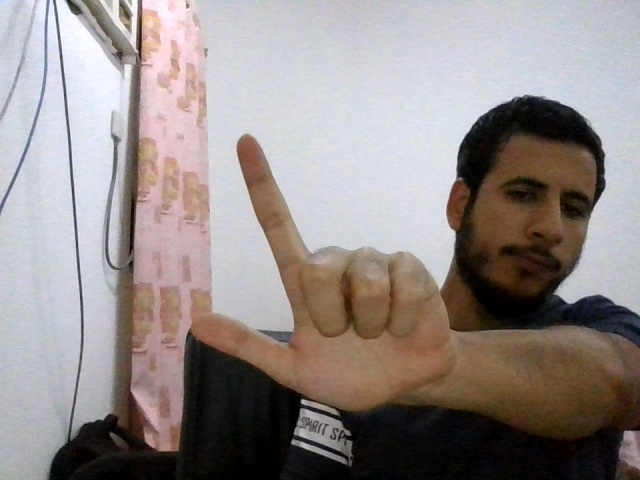Two: (190, 133, 451, 413)
